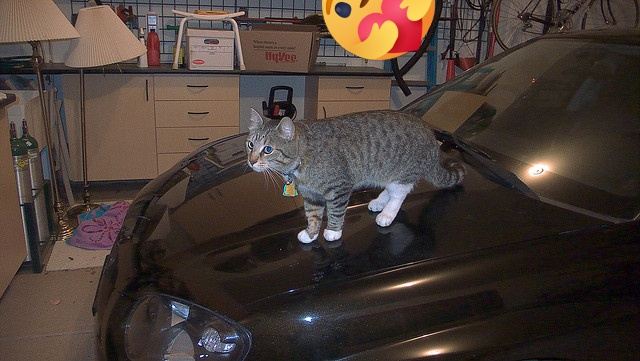care: (322, 0, 435, 60)
